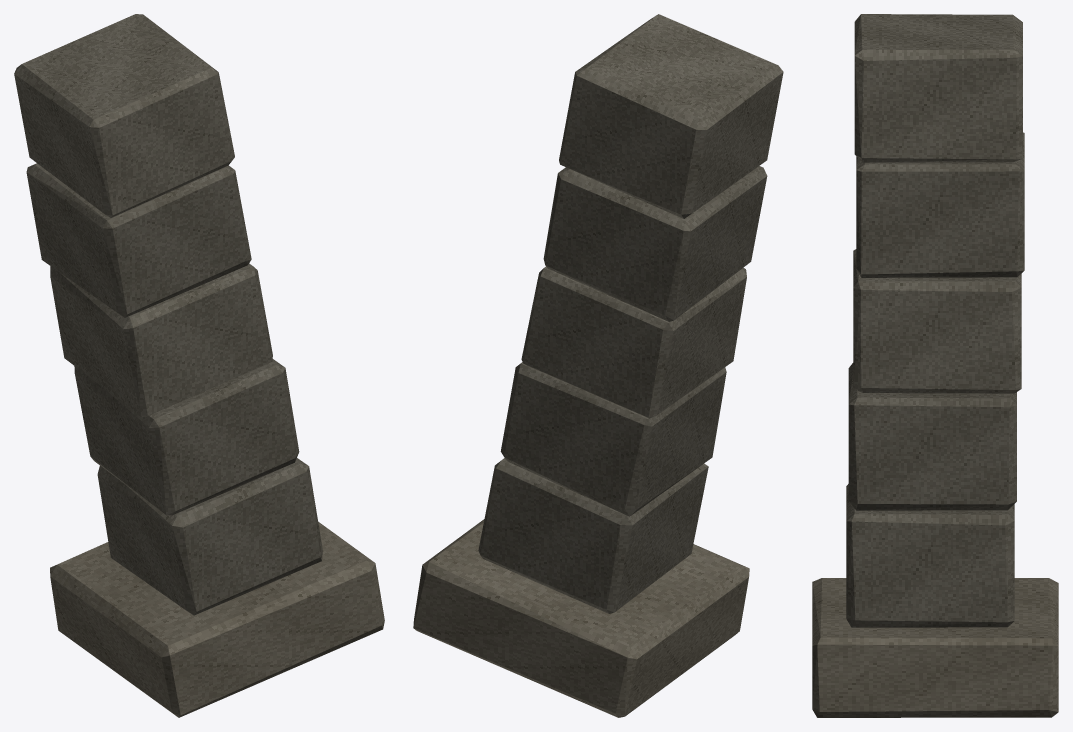
File: env_ruin_pillars_09_leaning_remnant.glb
3 renders of one model, left to right at view 1: azimuth 30°, elevation 25°; view 2: azimuth 150°, elevation 25°; view 3: azimuth 270°, elevation 25°, orthographic.
Size of the model in its own units: 0.7911 by 1.7 by 0.6.
Materials: 1 (1 with a texture image).
